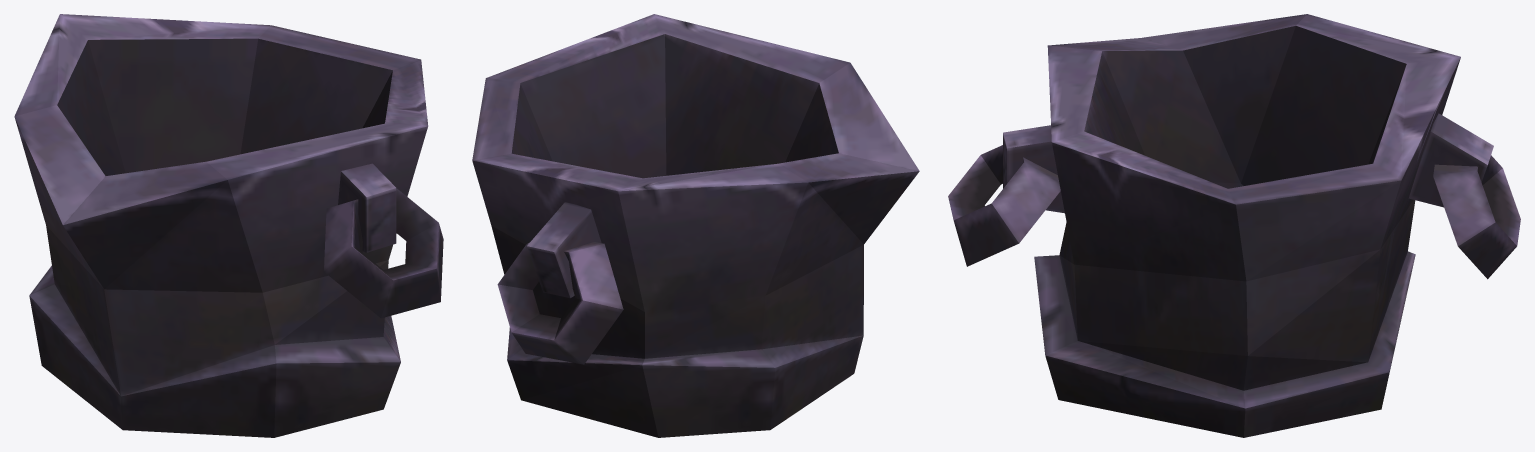
The model's file is lava_cauldron_01.fbx.
3 views of the same model, side by side, from view 1: azimuth 30°, elevation 25°; view 2: azimuth 150°, elevation 25°; view 3: azimuth 270°, elevation 25° (orthographic). The views are drawn at different scales.
Parts seen in each view (by area): view 1: obj0.031; view 2: obj0.031; view 3: obj0.031.
Boxes of the visible parts, x1=… form: obj0.031: x1=14, y1=14, x2=443, y2=437; obj0.031: x1=472, y1=14, x2=919, y2=437; obj0.031: x1=948, y1=14, x2=1520, y2=437.
Size of the model in its own units: 0.9595 by 0.6357 by 1.16.
